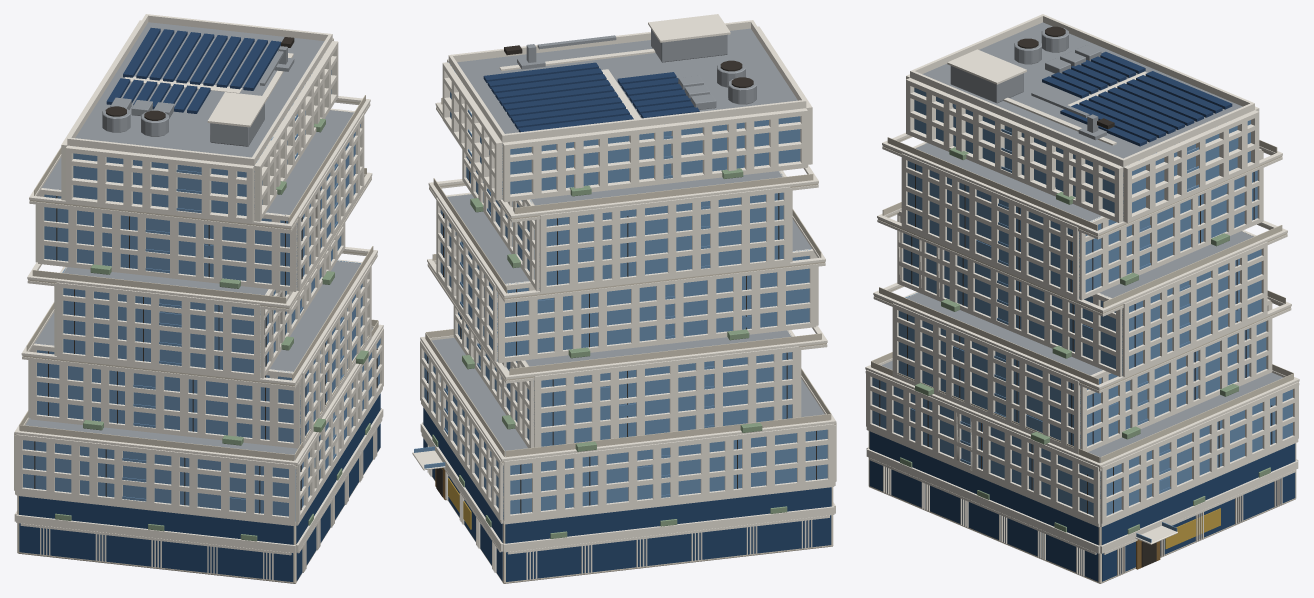
File: one-steuart-lane.glb
The picture shows the model from 3 angles, left to right: view 1: azimuth 30°, elevation 25°; view 2: azimuth 150°, elevation 25°; view 3: azimuth 270°, elevation 25°; orthographic projection. The views are drawn at different scales.
Parts seen in each view (by area): view 1: grp_Toy_cream, grp_Toy_glassl, grp_Toy_glass, grp_Toy_steel, grp_Toy_cream_Toy_steel, grp_Toy_navy, grp_Toy_stone, grp_Toy_cream_Glow, grp_Toy_sage, grp_Toy_ink, base_body, grp_Toy_glassl_Glow; view 2: grp_Toy_cream, grp_Toy_glassl, grp_Toy_glass, grp_Toy_steel, grp_Toy_navy, grp_Toy_stone, grp_Toy_cream_Toy_steel, grp_Toy_cream_Glow, grp_Toy_sage, grp_Toy_ink, grp_Toy_glassl_Glow, base_body; view 3: grp_Toy_cream, grp_Toy_glassl, grp_Toy_glass, grp_Toy_steel, grp_Toy_navy, grp_Toy_stone, grp_Toy_cream_Toy_steel, grp_Toy_cream_Glow, grp_Toy_ink, grp_Toy_sage, grp_Toy_glassl_Glow, base_body (+1 smaller).
Part boxes in pixels (bbox=[...]): grp_Toy_cream: bbox=[14, 14, 383, 580]; grp_Toy_glassl: bbox=[23, 70, 379, 521]; grp_Toy_glass: bbox=[19, 393, 380, 581]; grp_Toy_steel: bbox=[75, 22, 324, 157]; grp_Toy_cream_Toy_steel: bbox=[25, 110, 372, 459]; grp_Toy_navy: bbox=[106, 27, 281, 113]; grp_Toy_stone: bbox=[15, 95, 378, 466]; grp_Toy_cream_Glow: bbox=[14, 101, 382, 555]; grp_Toy_sage: bbox=[55, 118, 370, 541]; grp_Toy_ink: bbox=[34, 37, 377, 513]; base_body: bbox=[17, 448, 380, 583]; grp_Toy_glassl_Glow: bbox=[159, 124, 380, 510]; grp_Toy_cream: bbox=[412, 14, 836, 580]; grp_Toy_glassl: bbox=[414, 62, 827, 519]; grp_Toy_glass: bbox=[423, 407, 831, 581]; grp_Toy_steel: bbox=[457, 28, 797, 133]; grp_Toy_navy: bbox=[483, 62, 699, 132]; grp_Toy_stone: bbox=[425, 97, 835, 462]; grp_Toy_cream_Toy_steel: bbox=[431, 171, 824, 455]; grp_Toy_cream_Glow: bbox=[421, 107, 835, 554]; grp_Toy_sage: bbox=[432, 168, 787, 538]; grp_Toy_ink: bbox=[427, 45, 816, 513]; grp_Toy_glassl_Glow: bbox=[445, 131, 751, 478]; base_body: bbox=[432, 476, 833, 583]; grp_Toy_cream: bbox=[865, 14, 1299, 576]; grp_Toy_glassl: bbox=[872, 87, 1292, 542]; grp_Toy_glass: bbox=[869, 431, 1295, 581]; grp_Toy_steel: bbox=[922, 22, 1242, 158]; grp_Toy_navy: bbox=[1042, 51, 1232, 146]; grp_Toy_stone: bbox=[866, 136, 1298, 468]; grp_Toy_cream_Toy_steel: bbox=[881, 143, 1283, 462]; grp_Toy_cream_Glow: bbox=[865, 136, 1299, 554]; grp_Toy_ink: bbox=[879, 26, 1272, 567]; grp_Toy_sage: bbox=[900, 147, 1270, 534]; grp_Toy_glassl_Glow: bbox=[905, 104, 1275, 491]; base_body: bbox=[868, 431, 1296, 583].
Size of the model in its own units: 62.95 by 67.06 by 62.49.
